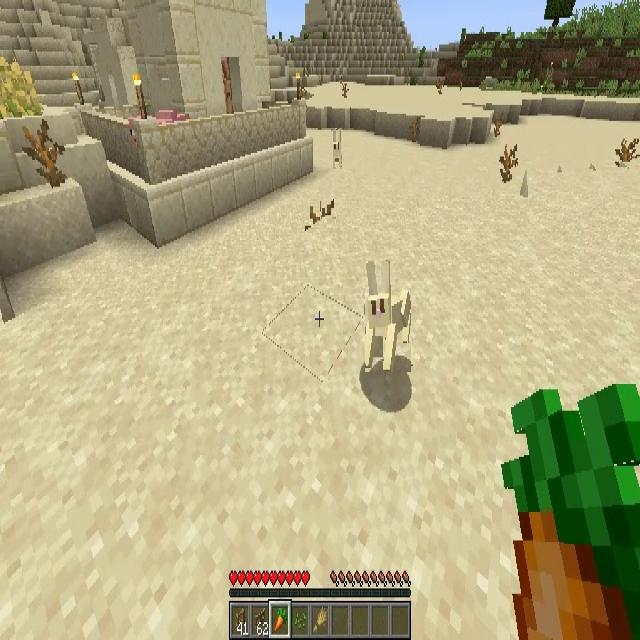rabbit: (365, 261, 411, 372), (332, 129, 344, 167)
